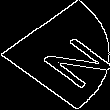N_NW: (9, 23, 101, 87)
